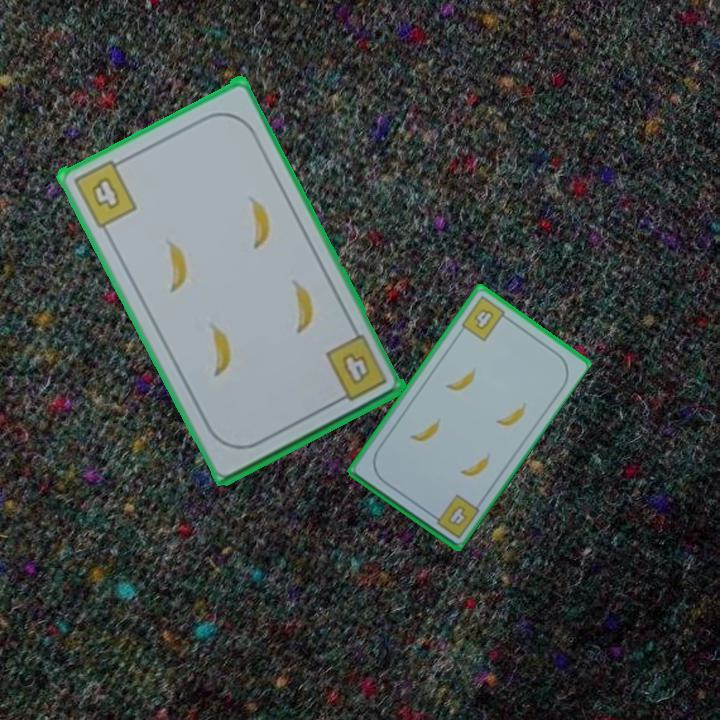4b: (69, 154, 139, 231), (321, 330, 390, 407), (457, 292, 512, 344), (426, 491, 482, 541)
